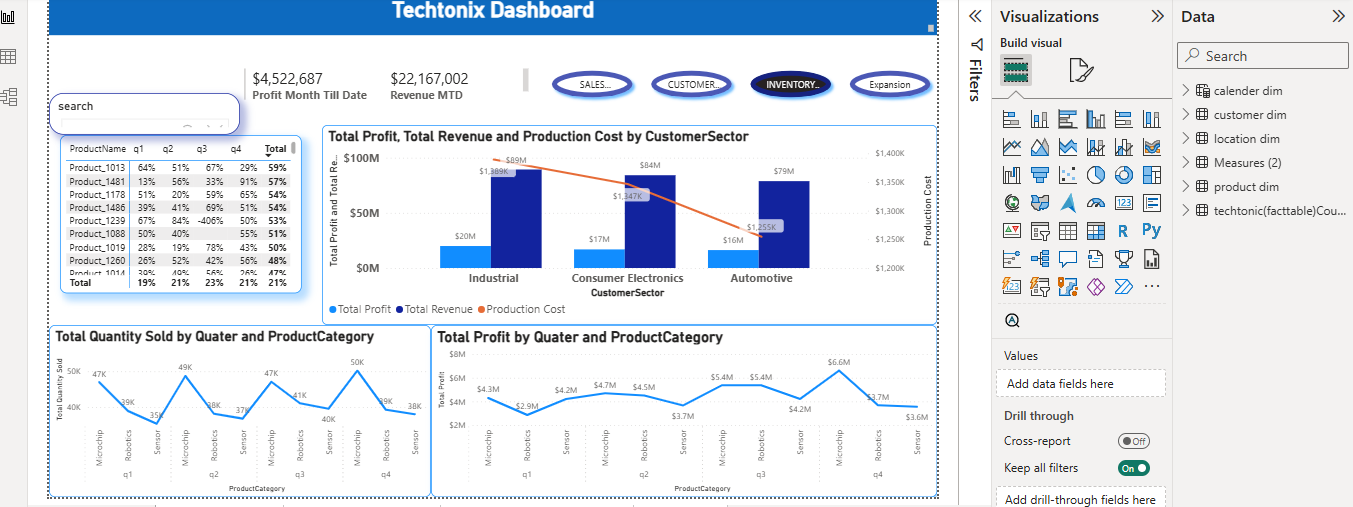

This screenshot's page, from the dashboard's own definition file:
{"tool":"powerbi","page":{"name":"INVENTORY OPTIMIZATION","canvas":[1280,720],"ordinal":2},"visuals":[{"type":"pivotTable","fields":{"Rows":["product dim.ProductName"],"Columns":["calender dim.Quater"],"Values":["Measures (2).profit margin"]},"box":[15.5,198.3,348.3,227.6],"z":0},{"type":"lineClusteredColumnComboChart","fields":{"Category":["customer dim.CustomerSector"],"Y":["Measures (2).Total Profit","Measures (2).Total Revenue"],"Y2":["Measures (2).Production Cost"]},"box":[393.1,184.5,886.2,287.9],"z":1000},{"type":"lineChart","fields":{"Y":["Measures (2).Total Quantity Sold"],"Category":["calender dim.Quater","product dim.ProductCategory"]},"box":[0,471.7,550,248.3],"z":2000},{"type":"lineChart","fields":{"Y":["Measures (2).Total Profit"],"Category":["calender dim.Quater","product dim.ProductCategory"]},"box":[550,472.4,729.3,248.3],"z":3000},{"type":"textbox","title":"Techtonix Dashboard","box":[0,0,1279.3,55.2],"z":4000},{"type":"pageNavigator","box":[715.5,98.3,563.8,55.2],"z":5000},{"type":"multiRowCard","fields":{"Values":["Measures (2).Profit Month Till Date","Measures (2).Revenue MTD"]},"box":[275.9,98.3,419,55.2],"z":6000},{"type":"textSearchSlicerF85E2E78BE4A4D7D9F99ED75B5D71C85","title":"search","fields":{"fields":["product dim.ProductName"]},"box":[0,137.6,275.3,59.9],"z":7000}]}

Visuals, with their boxes on the page's 1280x720 design canvas (x1, y1, x2, y2). These are canvas units, not pixel positions in the 1353x507 screenshot, which may show the page scaled, cropped or inside an application window:
pivotTable - product dim.ProductName x calender dim.Quater: crop(16, 198, 364, 426)
lineClusteredColumnComboChart - customer dim.CustomerSector x Measures (2).Total Profit: crop(393, 184, 1279, 472)
lineChart - Measures (2).Total Quantity Sold x calender dim.Quater: crop(0, 472, 550, 720)
lineChart - Measures (2).Total Profit x calender dim.Quater: crop(550, 472, 1279, 721)
"Techtonix Dashboard" textbox: crop(0, 0, 1279, 55)
pageNavigator: crop(716, 98, 1279, 154)
multiRowCard - Measures (2).Profit Month Till Date x Measures (2).Revenue MTD: crop(276, 98, 695, 154)
"search" textSearchSlicerF85E2E78BE4A4D7D9F99ED75B5D71C85: crop(0, 138, 275, 198)
